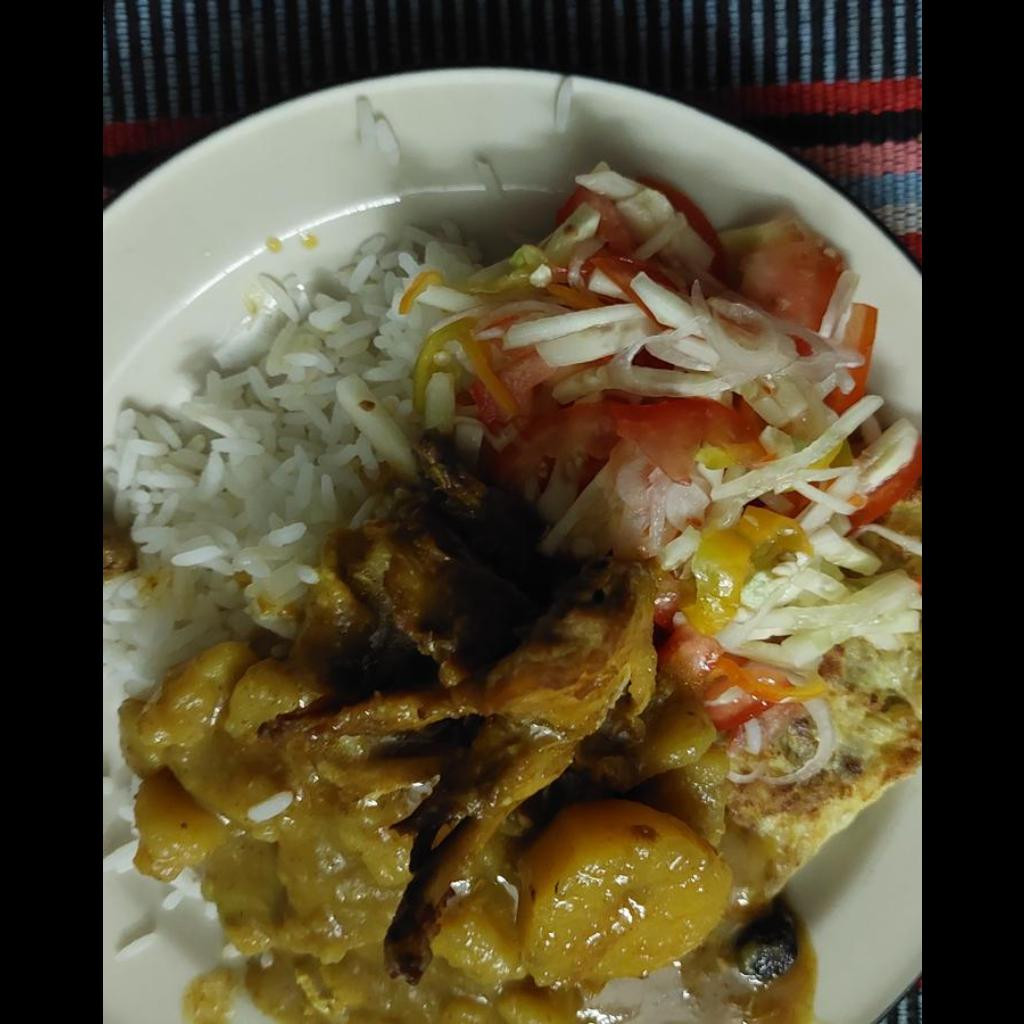chicken: (260, 520, 660, 979)
rice: (102, 230, 470, 696)
salad: (417, 165, 920, 727)
